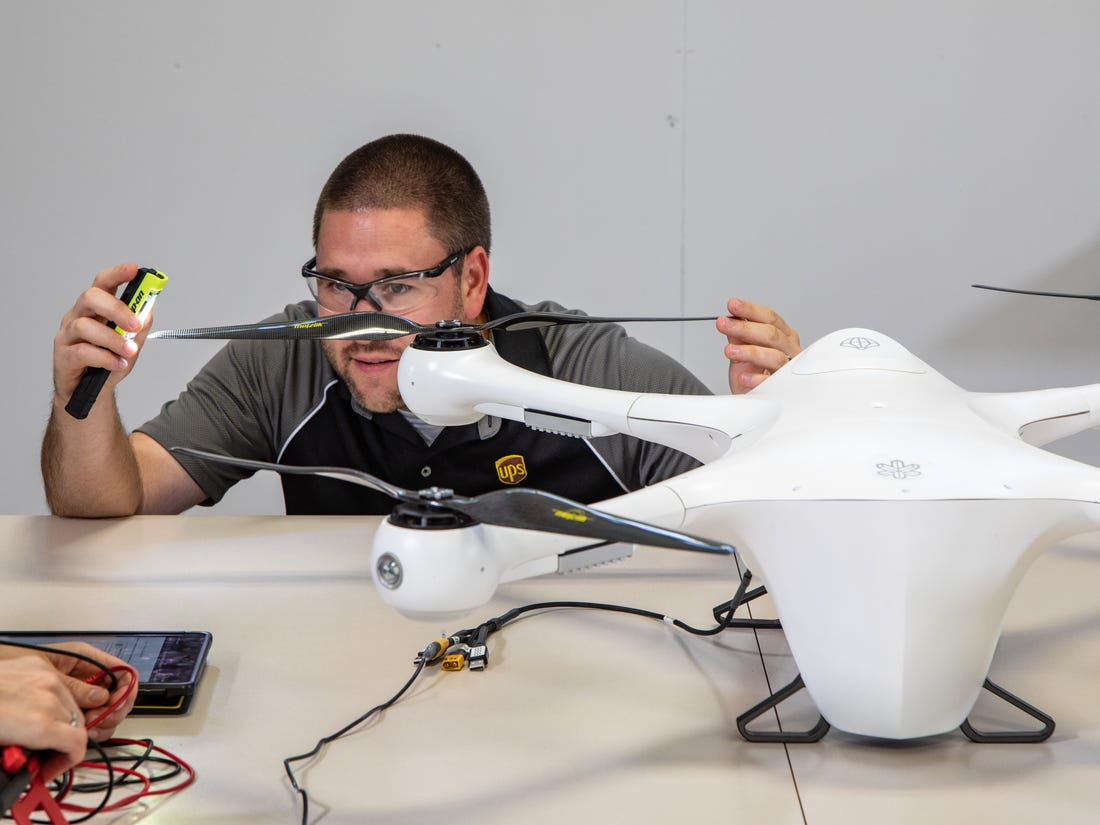drone: (127, 296, 1100, 760)
